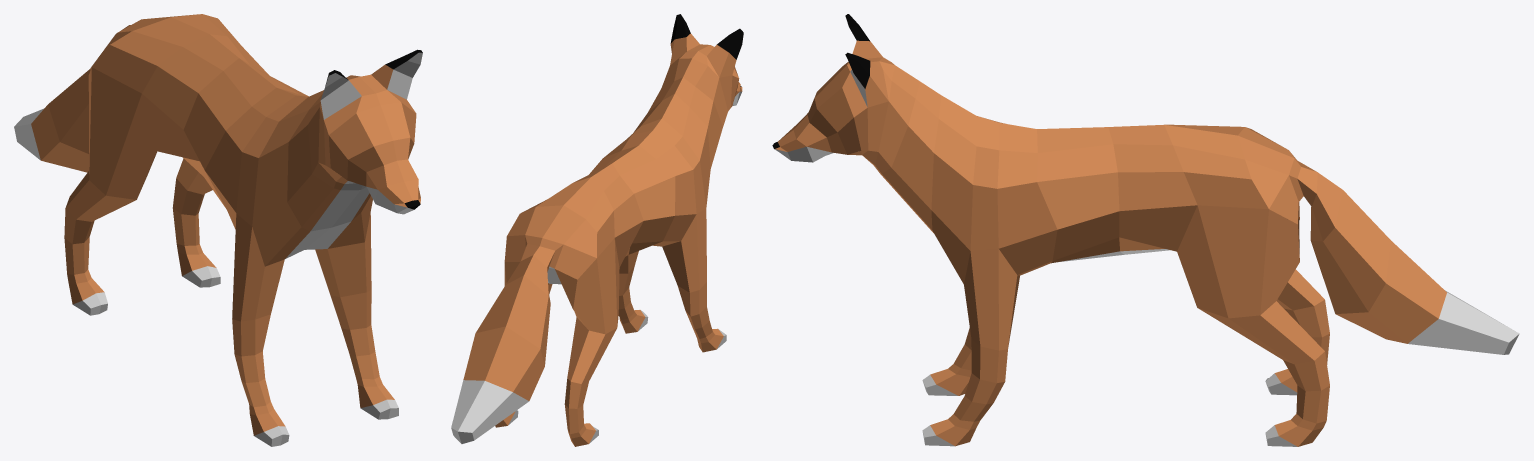
File: f_fox.fbx
3 renders of one model, left to right at view 1: azimuth 30°, elevation 25°; view 2: azimuth 150°, elevation 25°; view 3: azimuth 270°, elevation 25°, orthographic. The views are drawn at different scales.
Parts seen in each view (by area): view 1: Cylinder; view 2: Cylinder; view 3: Cylinder.
Part boxes in pixels (x1=…): Cylinder: x1=14, y1=14, x2=422, y2=446; Cylinder: x1=451, y1=14, x2=743, y2=446; Cylinder: x1=772, y1=14, x2=1519, y2=446.
Bounding box in the file's own units: 31 × 85 × 150.
